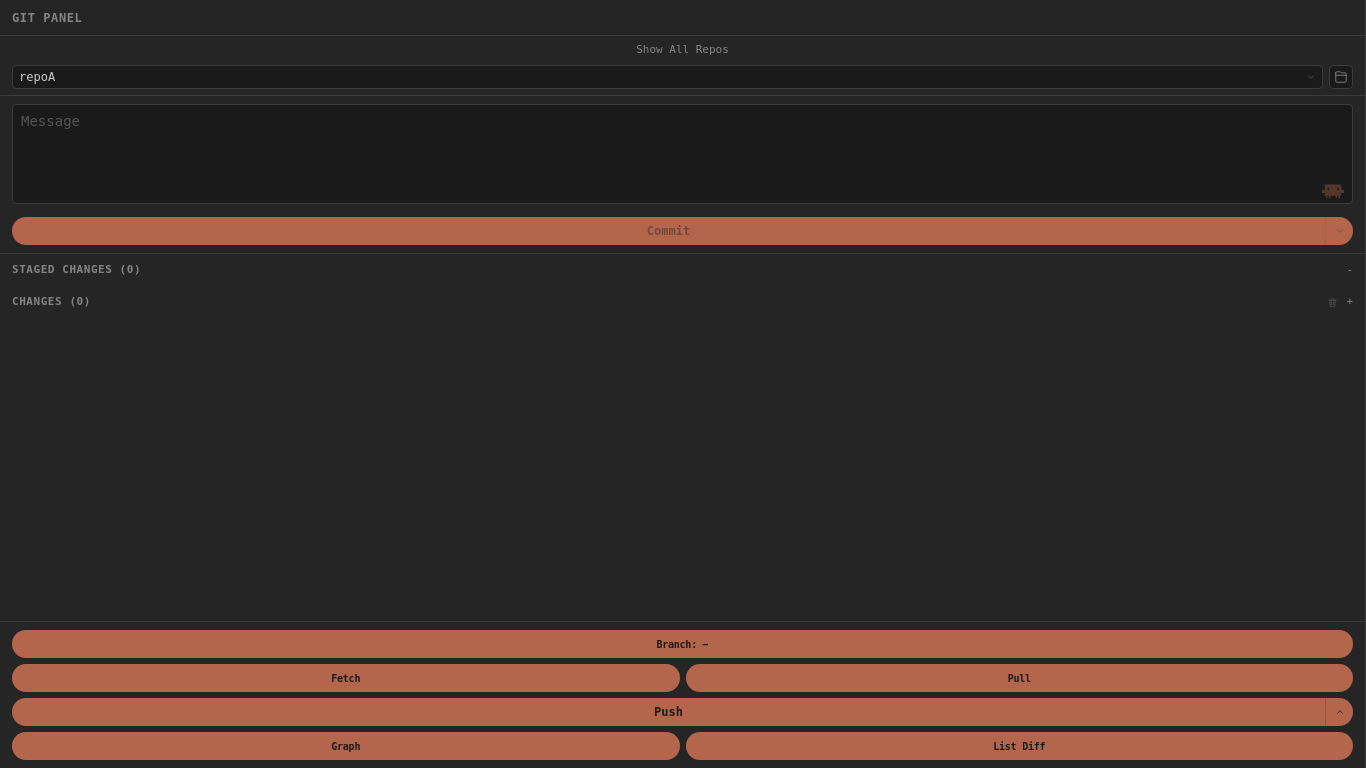
it: GitPanel — repo dropdown › is shown and lists every repo when more than one is open
Click the button with aria-label "Select repository": (37, 76) [12, 64, 1323, 88]
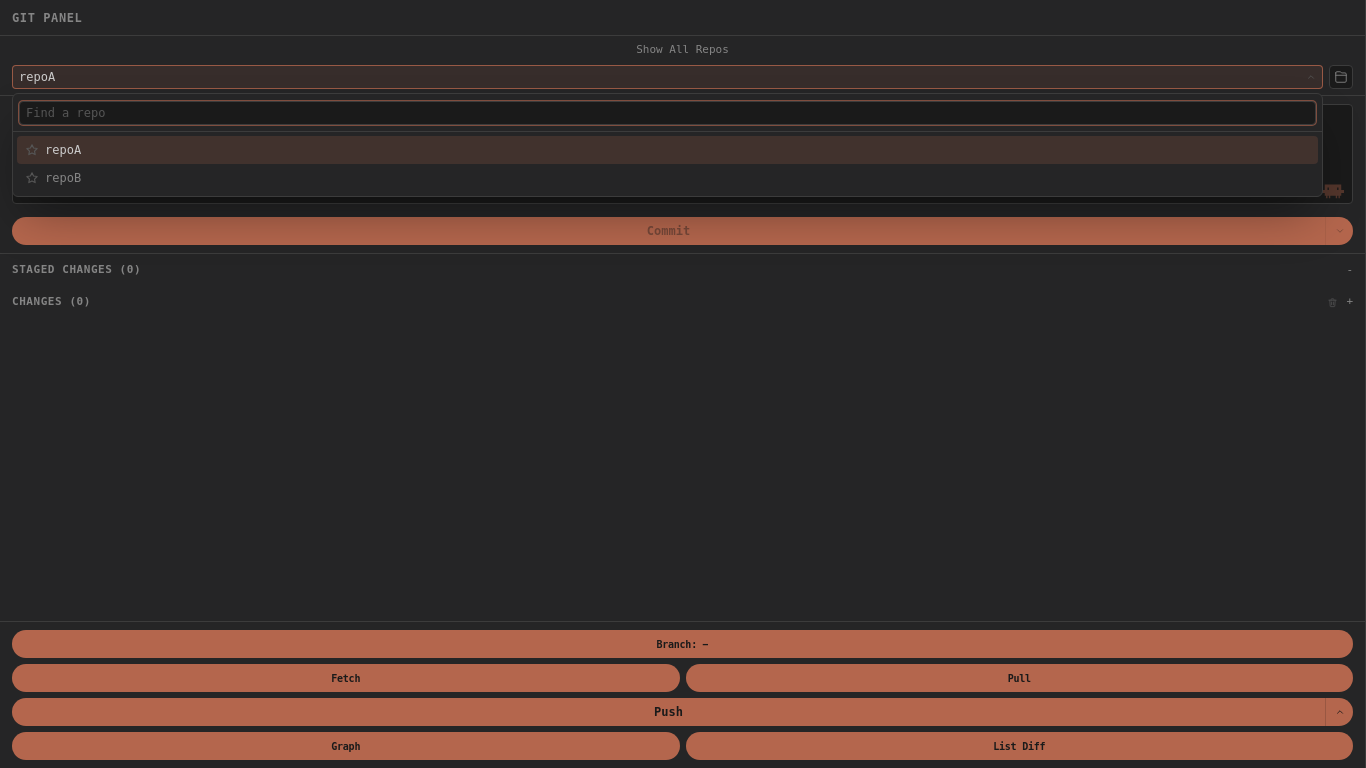
Check: the option "repoA" is shown, box [17, 136, 1318, 164]
Check: the option "repoB" is shown, box [25, 170, 81, 184]
